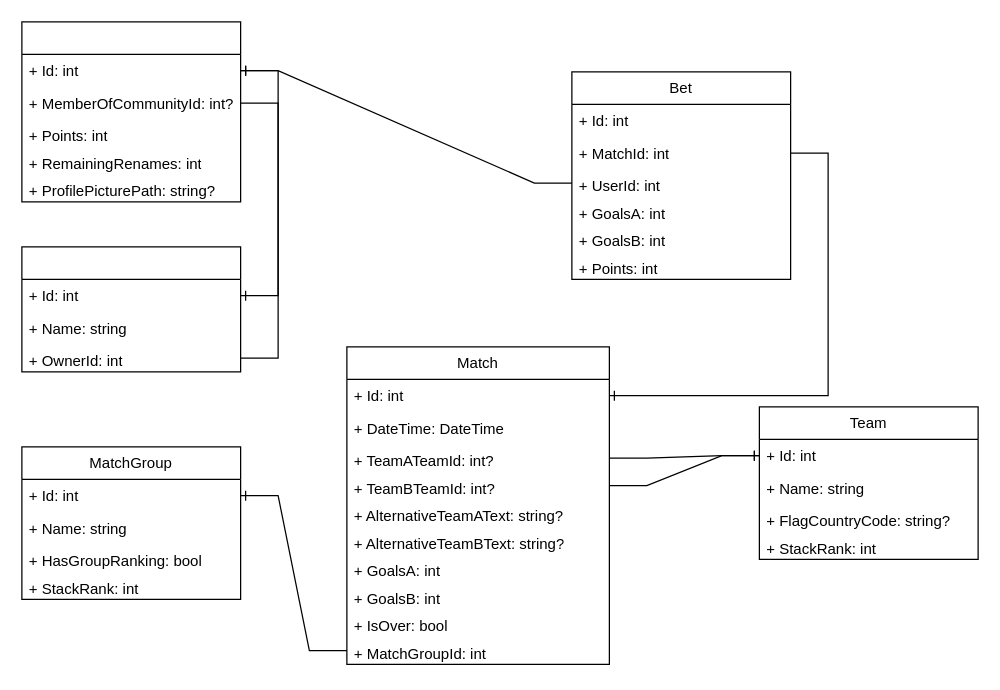
The diagram is 1000 pixels wide and 690 high, and some of its shapes have lost their labels. Each missing label, with the box of its shape:
BettingUser: (21, 21, 241, 202)
Community: (21, 246, 241, 372)
